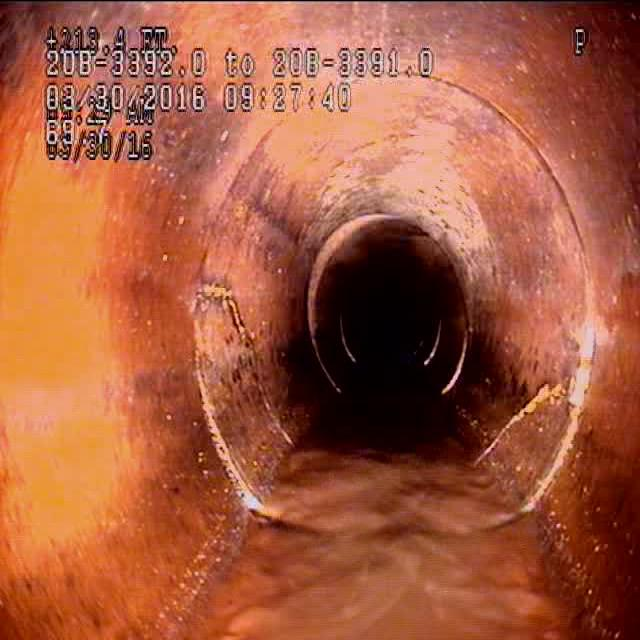Crack: (483, 365, 550, 459)
